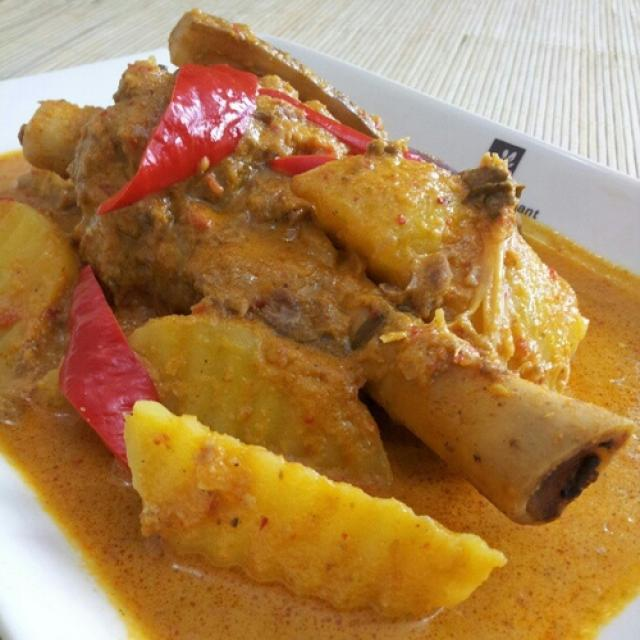熟制海鲜: (18, 21, 608, 613)
